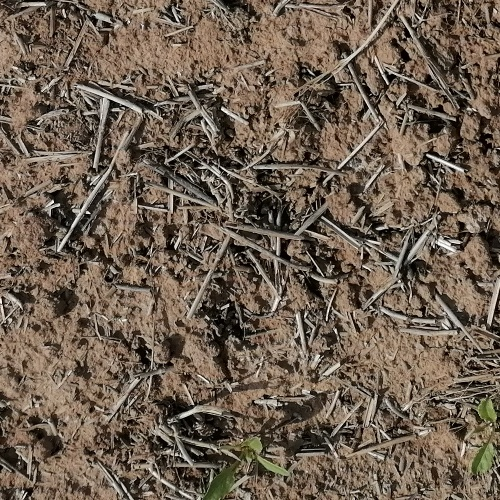beet: (201, 437, 289, 500), (471, 399, 500, 478)
